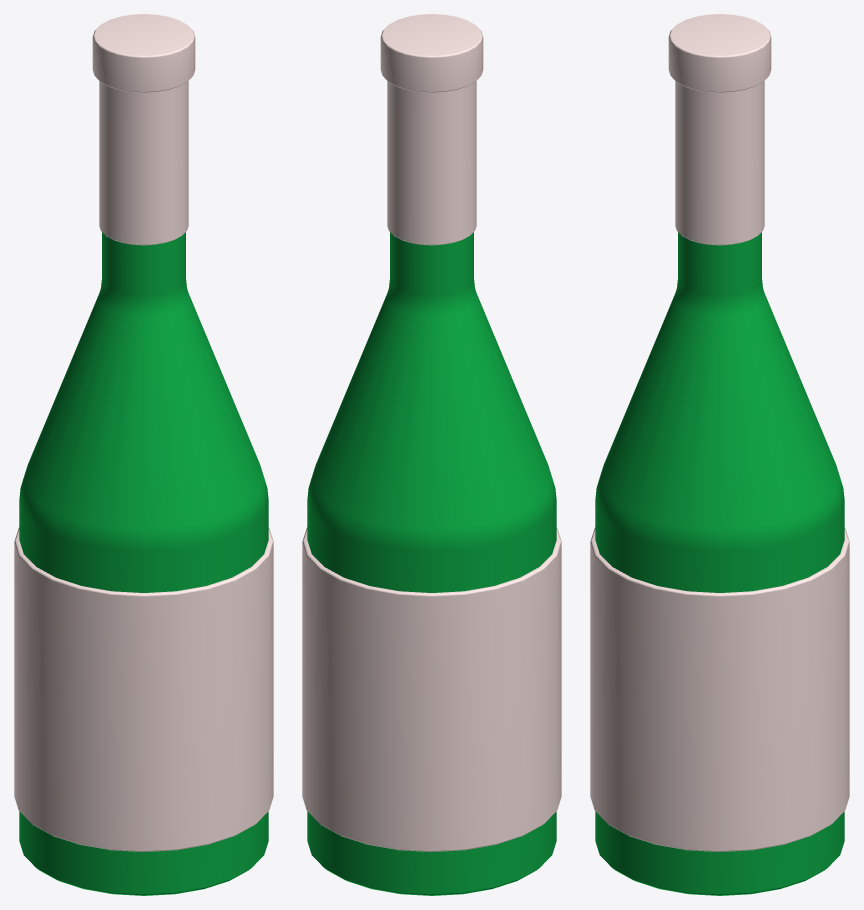
Rendered from City_16_Bottle_of_Wine_1.glb.
The picture shows the model from 3 angles, left to right: view 1: azimuth 30°, elevation 25°; view 2: azimuth 150°, elevation 25°; view 3: azimuth 270°, elevation 25°; orthographic projection.
Parts seen in each view (by area): view 1: City_16_Bottle_of_Wine_1; view 2: City_16_Bottle_of_Wine_1; view 3: City_16_Bottle_of_Wine_1.
Boxes of the visible parts, x1,y1,x2,y2 form: City_16_Bottle_of_Wine_1: (14, 14, 273, 895); City_16_Bottle_of_Wine_1: (302, 14, 561, 895); City_16_Bottle_of_Wine_1: (590, 14, 849, 895).
Bounding box in the file's own units: 0.1471 × 0.5066 × 0.1471.
1 material, 1 textured.
